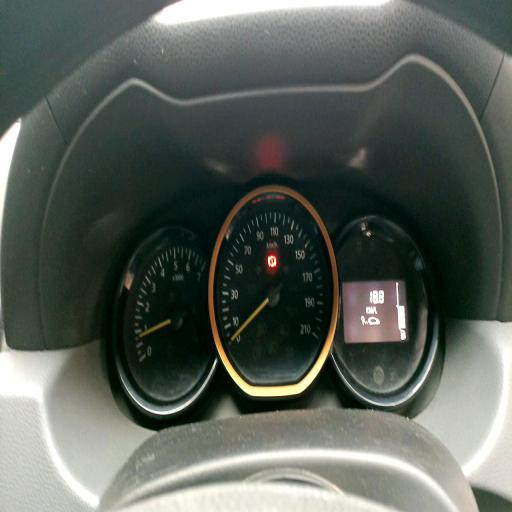brake_system_fault: (267, 254, 277, 268)
tachometer: (134, 247, 210, 375)
